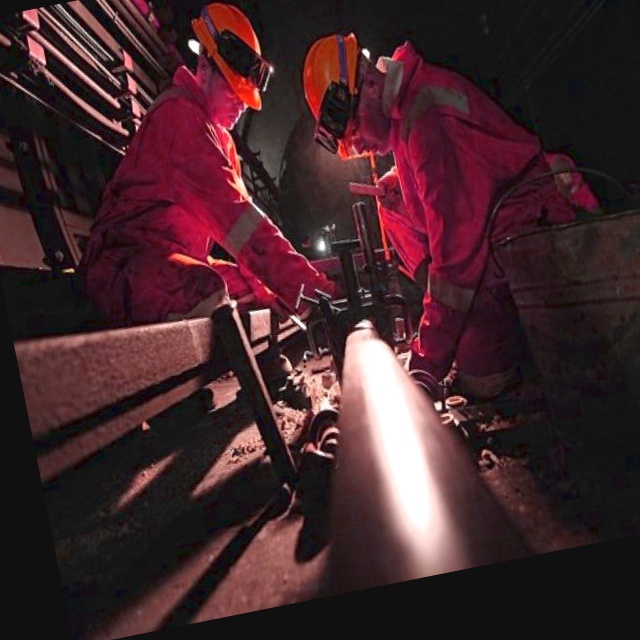Con_Casco: (294, 25, 392, 164), (181, 0, 275, 130)
